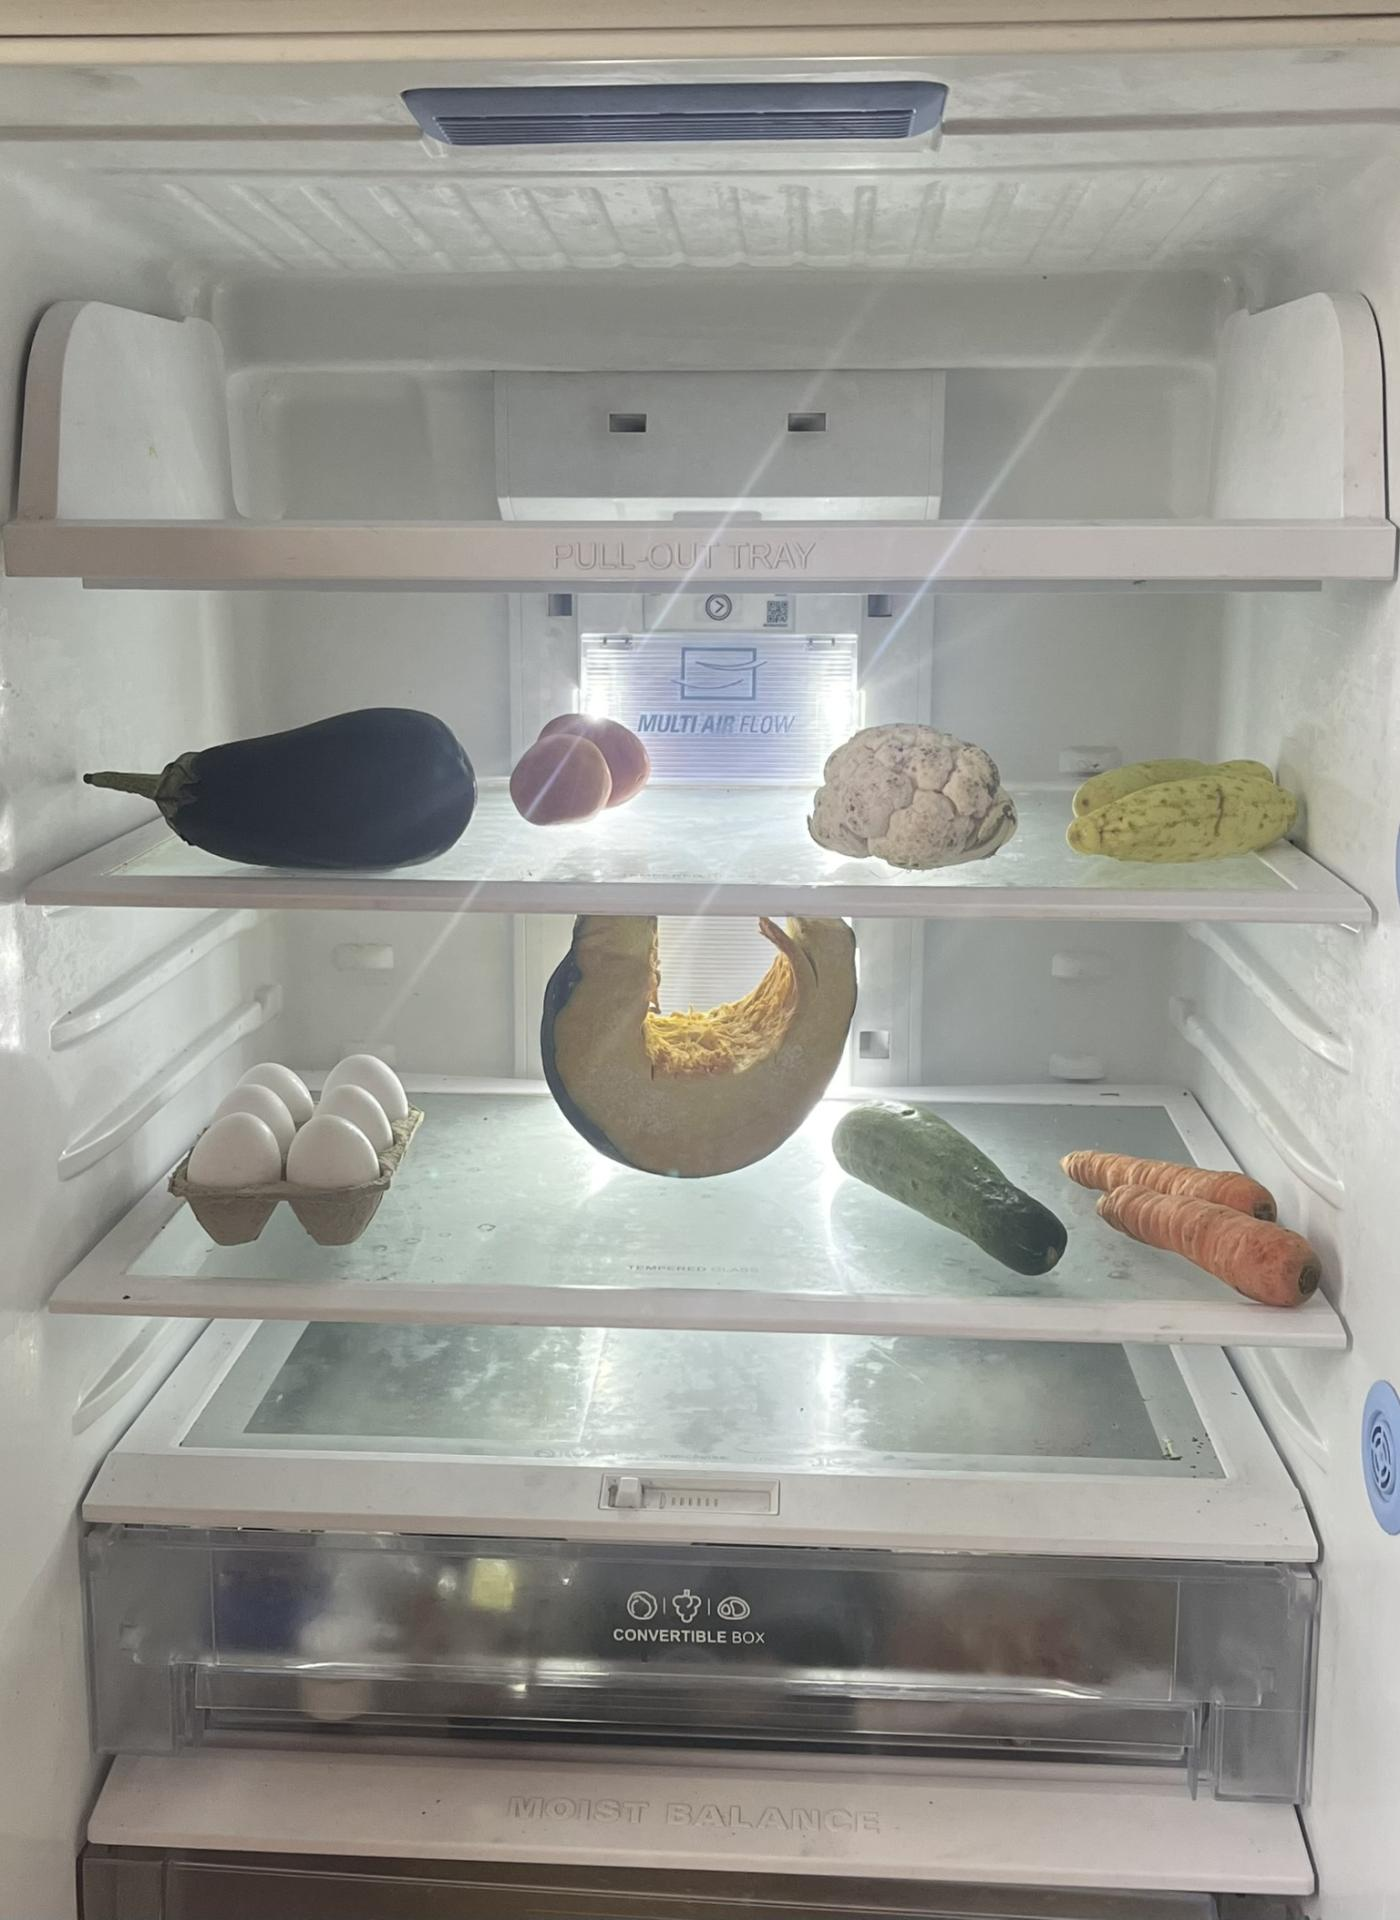brinjal: (89, 699, 507, 875)
carrots: (1059, 1146, 1325, 1307)
cauliflower: (804, 717, 1017, 866)
cucumber: (822, 1094, 1068, 1276), (1065, 760, 1306, 871)
egg: (173, 1070, 423, 1258)
pumpkin: (549, 926, 868, 1190)
tomato: (505, 710, 653, 830)
